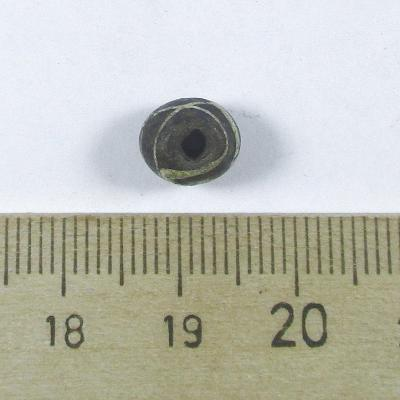archeology: (139, 98, 242, 188)
